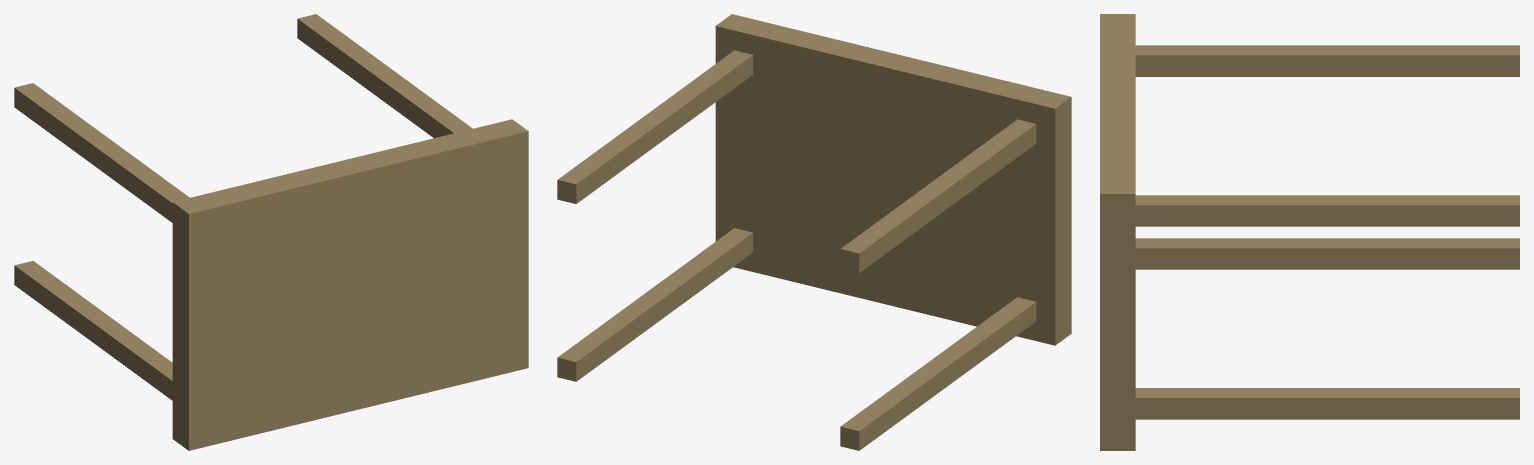
The model's file is SM_RoadTravelTent.obj.
The picture shows the model from 3 angles, left to right: view 1: azimuth 30°, elevation 25°; view 2: azimuth 150°, elevation 25°; view 3: azimuth 270°, elevation 25°; orthographic projection. The views are drawn at different scales.
Visible parts, largest first — view 1: SM_RoadTravelTent; view 2: SM_RoadTravelTent; view 3: SM_RoadTravelTent.
Boxes of the visible parts, x1,y1,x2,y2 form: SM_RoadTravelTent: [14, 14, 528, 450]; SM_RoadTravelTent: [557, 14, 1071, 450]; SM_RoadTravelTent: [1100, 14, 1519, 450].
Bounding box in the file's own units: 180 × 120 × 178.
